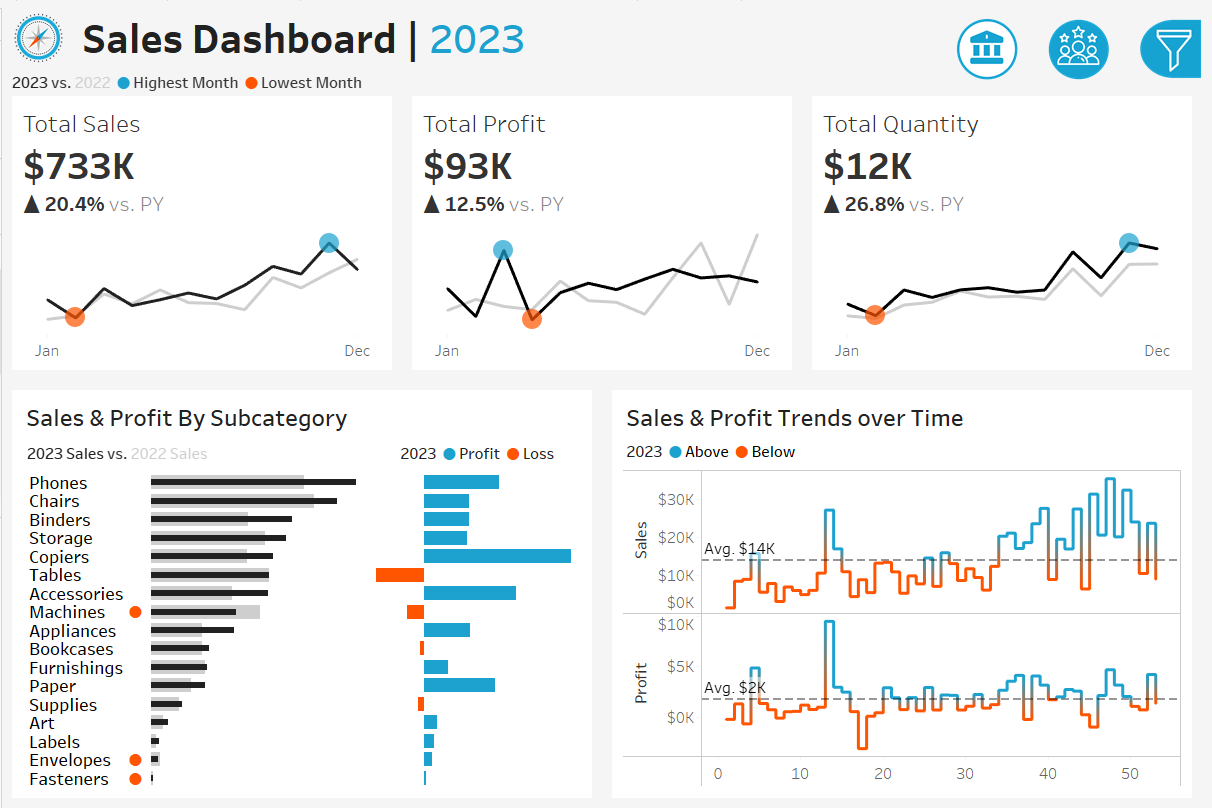

This screenshot's page, from the dashboard's own definition file:
{"tool":"tableau","page":{"name":"Sales Dashboard","canvas":[1200,800],"ordinal":1},"visuals":[{"type":"image","param":"Image/Icon - Logo.png","box":[0,0,73,59]},{"type":"text","box":[73,0,820,59]},{"type":"dashboard-object","box":[940,6,91,70]},{"type":"dashboard-object","box":[1031,6,91,70]},{"type":"blank","box":[952,10,237,86]},{"type":"worksheet","title":"Legend KPI","mark":"Automatic","box":[0,59,1200,29]},{"type":"worksheet","title":"KPI Sales","mark":"Automatic","rows":["Calculation_721701895347843083"],"cols":["Order Date"],"box":[0,88,400,284]},{"type":"worksheet","title":"KPI Profit","mark":"Automatic","rows":["Min/Max Sales (copy)_237846410425847814"],"cols":["Order Date"],"box":[400,88,400,284]},{"type":"worksheet","title":"KPI Quantity","mark":"Automatic","rows":["Min/Max Sales (copy) (copy)_237846410425856007"],"cols":["Order Date"],"box":[800,88,400,284]},{"type":"text","box":[952,96,237,37]},{"type":"parameter","param":"[Parameters].[Parameter 1]","box":[952,133,237,55]},{"type":"text","box":[952,188,237,32]},{"type":"filter","title":"KPI Sales","param":"[federated.1kpxa041aiai2y1cl4pui1t4eju9].[none:Category:nk]","box":[952,220,237,57]},{"type":"filter","title":"KPI Sales","param":"[federated.1kpxa041aiai2y1cl4pui1t4eju9].[none:Sub-Category:nk]","box":[952,277,237,57]},{"type":"blank","box":[952,334,237,60]},{"type":"text","box":[17,389,566,40]},{"type":"text","box":[617,389,566,40]},{"type":"text","box":[952,394,237,32]},{"type":"filter","title":"KPI Sales","param":"[federated.1kpxa041aiai2y1cl4pui1t4eju9].[none:Region:nk]","box":[952,426,237,57]},{"type":"worksheet","title":"Legend Subcategory","mark":"Automatic","box":[17,429,374,32]},{"type":"text","box":[391,429,192,32]},{"type":"text","box":[617,429,566,29]},{"type":"worksheet","title":"Weekly Trends","mark":"Automatic","rows":["Calculation_721701895334993921","CY Sales (copy)_237846410424180736"],"cols":["Order Date"],"box":[617,458,566,325]},{"type":"worksheet","title":"Subcategory Comparison","mark":"Bar","rows":["Sub-Category","Calculation_2435040078806671369"],"cols":["CY Sales (copy)_721701895335804930","Calculation_721701895334993921","CY Sales (copy)_237846410424180736"],"box":[17,461,566,321.9]},{"type":"filter","title":"KPI Sales","param":"[federated.1kpxa041aiai2y1cl4pui1t4eju9].[none:State:nk]","box":[952,483,237,57]},{"type":"filter","title":"KPI Sales","param":"[federated.1kpxa041aiai2y1cl4pui1t4eju9].[none:City:nk]","box":[952,540,237,57]}]}

Visuals, with their boxes in screenshot pixels (x1, y1, x2, y2), scaled from the page's 1200x800 canvas onto the 1212x808 screenshot:
image: BBox(0, 0, 74, 60)
text: BBox(74, 0, 902, 60)
dashboard-object: BBox(949, 6, 1041, 77)
dashboard-object: BBox(1041, 6, 1133, 77)
blank: BBox(962, 10, 1201, 97)
"Legend KPI" worksheet: BBox(0, 60, 1211, 89)
"KPI Sales" worksheet: BBox(0, 89, 404, 376)
"KPI Profit" worksheet: BBox(404, 89, 808, 376)
"KPI Quantity" worksheet: BBox(808, 89, 1211, 376)
text: BBox(962, 97, 1201, 134)
parameter: BBox(962, 134, 1201, 190)
text: BBox(962, 190, 1201, 222)
"KPI Sales" filter: BBox(962, 222, 1201, 280)
"KPI Sales" filter: BBox(962, 280, 1201, 337)
blank: BBox(962, 337, 1201, 398)
text: BBox(17, 393, 589, 433)
text: BBox(623, 393, 1195, 433)
text: BBox(962, 398, 1201, 430)
"KPI Sales" filter: BBox(962, 430, 1201, 488)
"Legend Subcategory" worksheet: BBox(17, 433, 395, 466)
text: BBox(395, 433, 589, 466)
text: BBox(623, 433, 1195, 463)
"Weekly Trends" worksheet: BBox(623, 463, 1195, 791)
"Subcategory Comparison" worksheet (Bar marks): BBox(17, 466, 589, 791)
"KPI Sales" filter: BBox(962, 488, 1201, 545)
"KPI Sales" filter: BBox(962, 545, 1201, 603)
